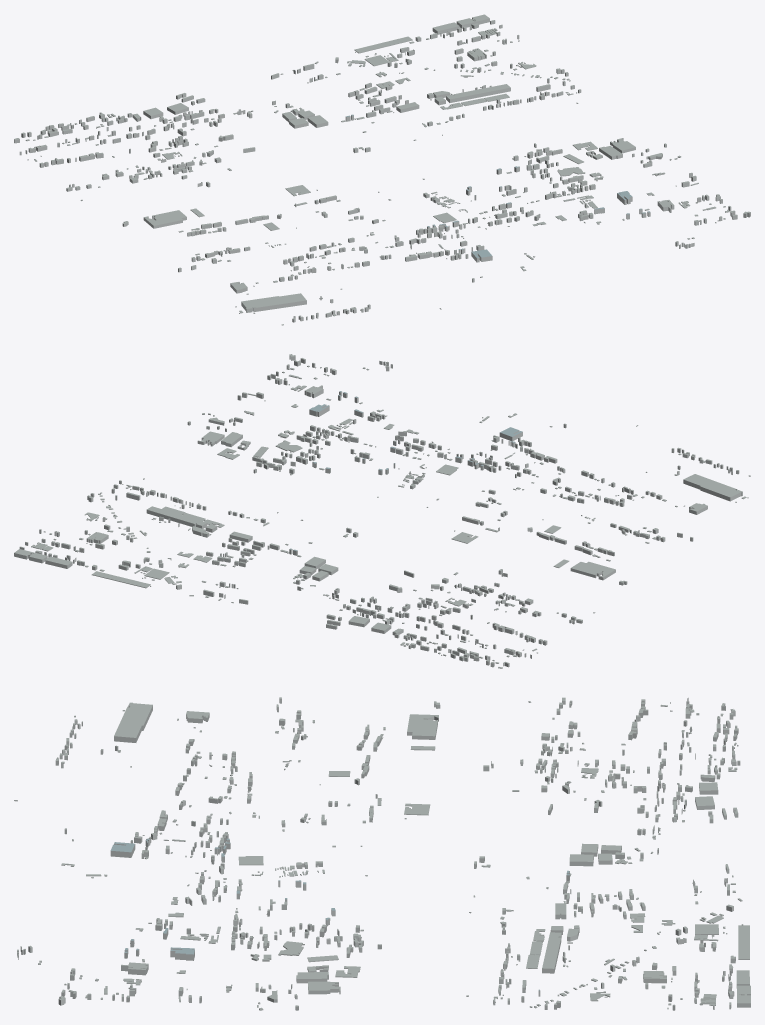
The model's file is far.glb.
The picture shows the model from 3 angles, top to bottom: view 1: azimuth 30°, elevation 25°; view 2: azimuth 150°, elevation 25°; view 3: azimuth 270°, elevation 25°; orthographic projection. The views are drawn at different scales.
Size of the model in its own units: 2105 by 20.8 by 2118.
